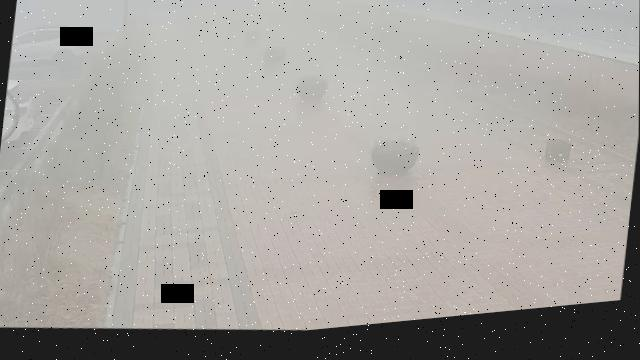bag: (544, 149, 573, 179)
